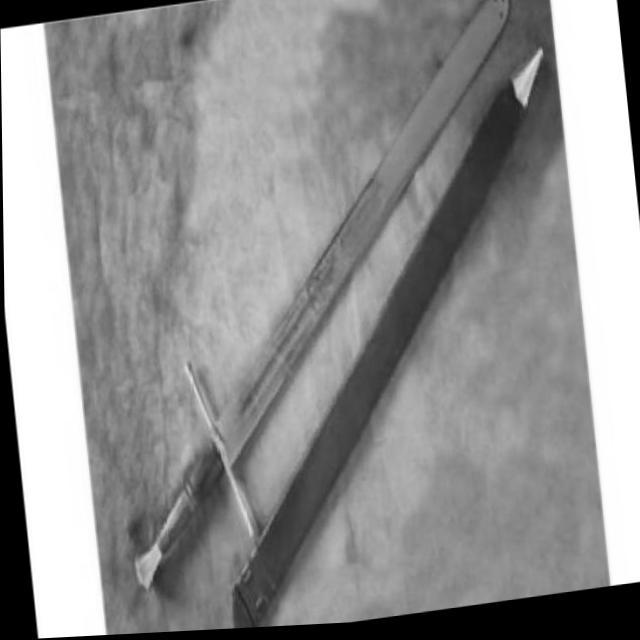weapon: (79, 0, 564, 593)
